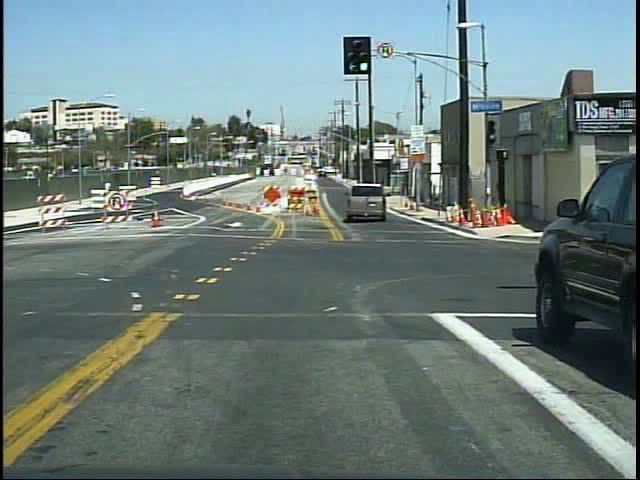car: (523, 153, 640, 373), (338, 180, 389, 222)
strada: (1, 199, 628, 477)
